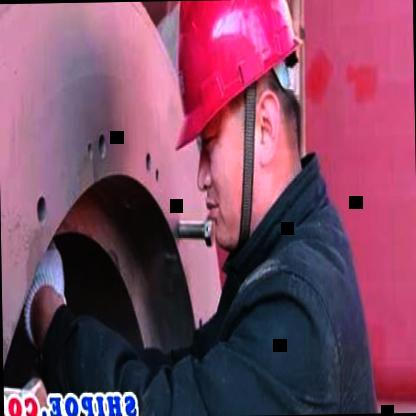helmet: (167, 0, 316, 245)
